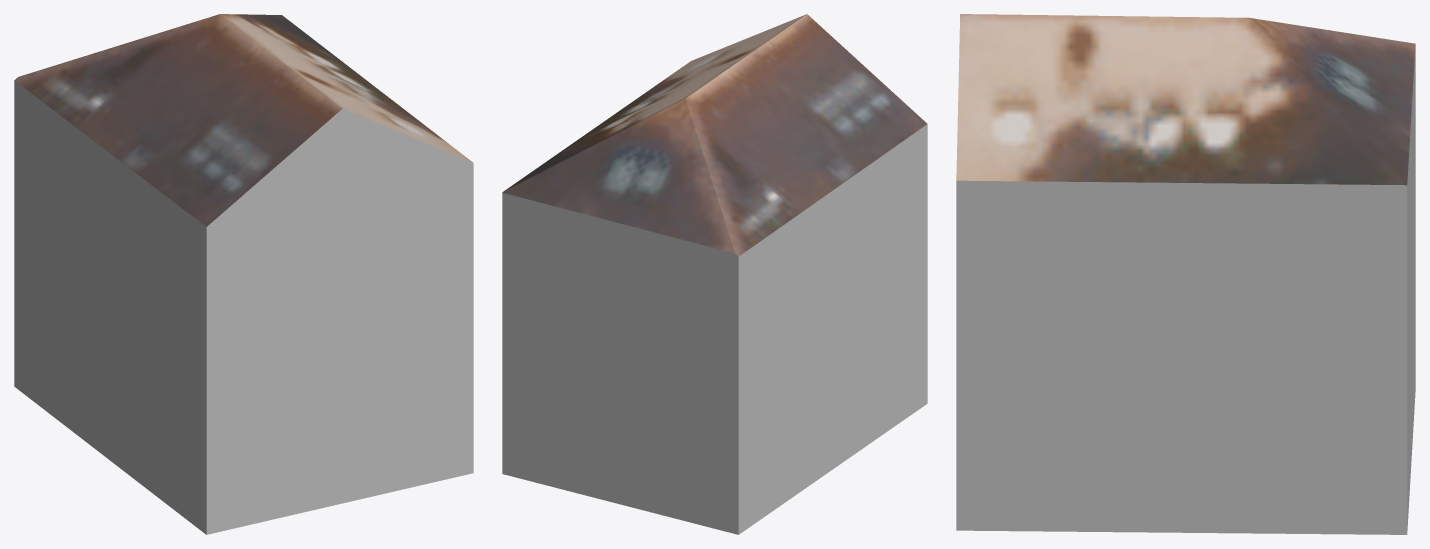
Rendered from DEBW_0010007Txh8.gltf.
3 views of the same model, side by side, from view 1: azimuth 30°, elevation 25°; view 2: azimuth 150°, elevation 25°; view 3: azimuth 270°, elevation 25° (orthographic). The views are drawn at different scales.
Visible parts, largest first — view 1: Z_UP; view 2: Z_UP; view 3: Z_UP.
Boxes of the visible parts, x1,y1,x2,y2 form: Z_UP: (14, 14, 473, 534); Z_UP: (502, 14, 927, 534); Z_UP: (956, 14, 1415, 534).
Size of the model in its own units: 11.38 by 15.8 by 14.77.
Materials: 2 (1 with a texture image).
